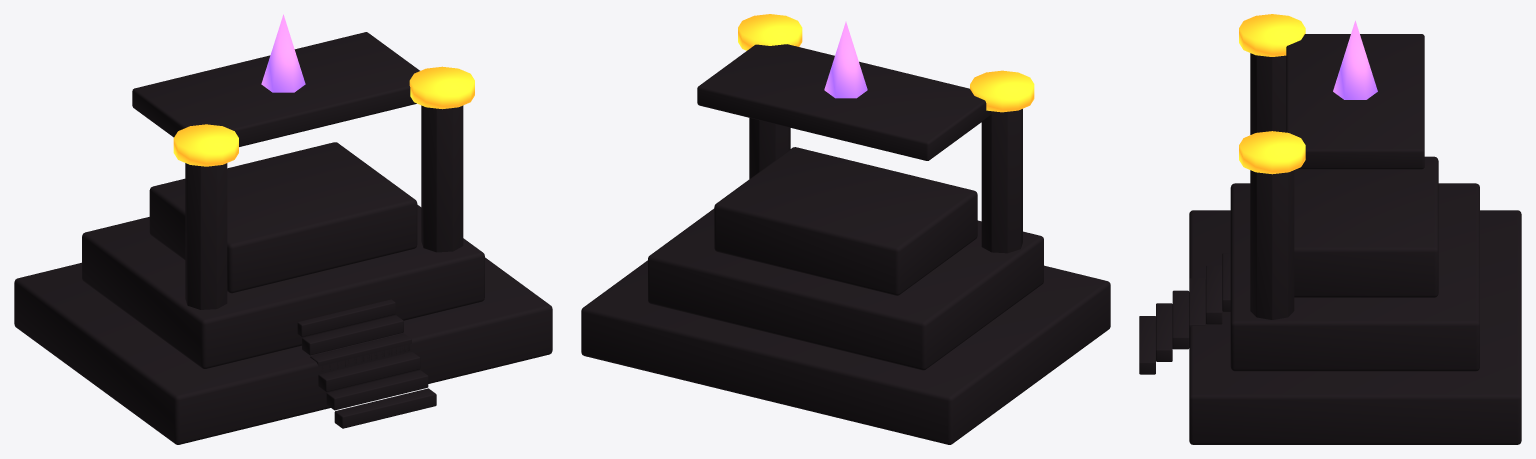
The model's file is kuil-obsidian.glb.
The picture shows the model from 3 angles, left to right: view 1: azimuth 30°, elevation 25°; view 2: azimuth 150°, elevation 25°; view 3: azimuth 270°, elevation 25°; orthographic projection. The views are drawn at different scales.
Parts seen in each view (by area): view 1: Cube, Cube.001, Cube.002, Cube.003, Cylinder, Cylinder.002, Cylinder.001, Cylinder.003, Cube.004, Cube.005, Cube.006, Cube.008 (+3 smaller); view 2: Cube, Cube.001, Cube.002, Cube.003, Cylinder, Cylinder.001, Cylinder.003, Cone, Cylinder.002; view 3: Cube, Cube.001, Cube.002, Cube.003, Cylinder.002, Cylinder, Cylinder.003, Cylinder.001, Cone, Cube.006, Cube.008, Cube.004 (+3 smaller).
Part boxes in pixels (bbox=[...]): Cube: bbox=[14, 257, 552, 444]; Cube.001: bbox=[82, 204, 484, 368]; Cube.002: bbox=[149, 142, 417, 293]; Cube.003: bbox=[132, 32, 419, 146]; Cylinder: bbox=[185, 163, 227, 309]; Cylinder.002: bbox=[421, 105, 463, 252]; Cylinder.001: bbox=[173, 124, 238, 166]; Cylinder.003: bbox=[409, 66, 474, 109]; Cube.004: bbox=[334, 388, 436, 428]; Cube.005: bbox=[326, 370, 428, 410]; Cube.006: bbox=[318, 352, 420, 391]; Cube.008: bbox=[302, 315, 403, 355]; Cube: bbox=[581, 260, 1110, 444]; Cube.001: bbox=[648, 208, 1043, 370]; Cube.002: bbox=[714, 147, 977, 295]; Cube.003: bbox=[697, 44, 991, 160]; Cylinder: bbox=[981, 109, 1022, 253]; Cylinder.001: bbox=[970, 70, 1034, 112]; Cylinder.003: bbox=[738, 14, 802, 50]; Cone: bbox=[824, 21, 867, 98]; Cylinder.002: bbox=[749, 118, 790, 178]; Cube: bbox=[1189, 210, 1521, 444]; Cube.001: bbox=[1230, 183, 1479, 371]; Cube.002: bbox=[1294, 156, 1438, 297]; Cube.003: bbox=[1286, 34, 1424, 169]; Cylinder.002: bbox=[1250, 170, 1294, 319]; Cylinder: bbox=[1250, 53, 1286, 134]; Cylinder.003: bbox=[1239, 131, 1305, 174]; Cylinder.001: bbox=[1239, 14, 1305, 56]; Cone: bbox=[1333, 20, 1377, 99]; Cube.006: bbox=[1172, 290, 1189, 349]; Cube.008: bbox=[1206, 265, 1222, 324]; Cube.004: bbox=[1139, 316, 1155, 374].
Size of the model in its own units: 16 by 13.25 by 13.8.
